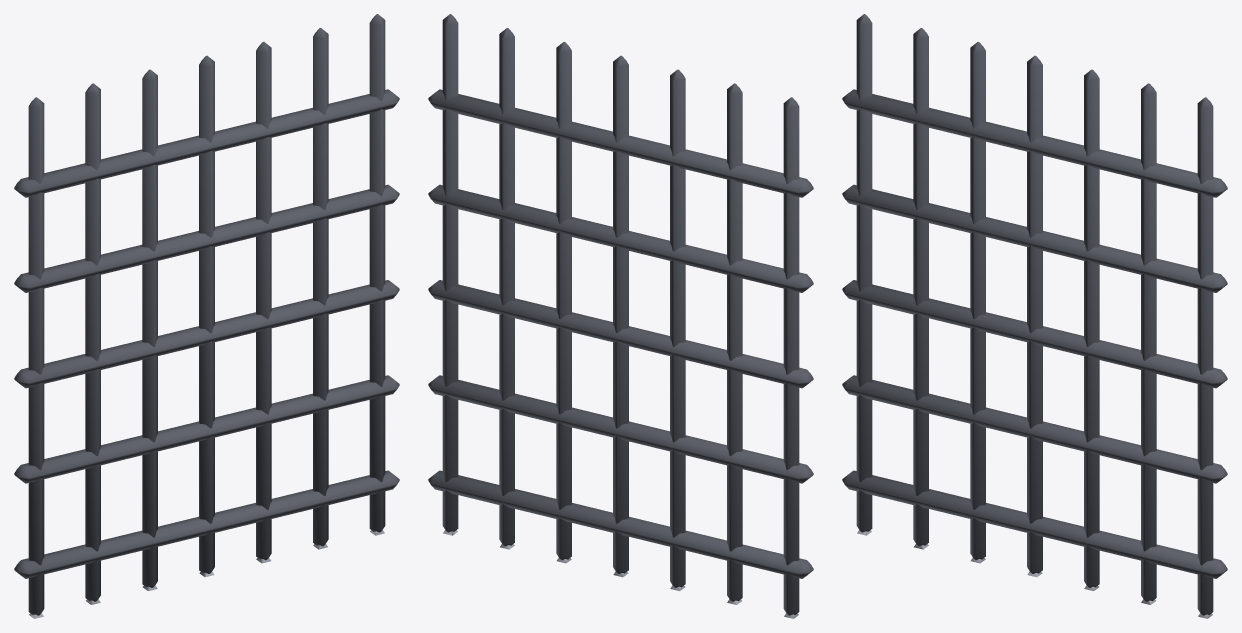
The model's file is X_MedPortcullisGrid.fbx.
3 renders of one model, left to right at view 1: azimuth 30°, elevation 25°; view 2: azimuth 150°, elevation 25°; view 3: azimuth 330°, elevation 25°, orthographic.
Parts seen in each view (by area): view 1: M_PortcullisGrid; view 2: M_PortcullisGrid; view 3: M_PortcullisGrid.
Part boxes in pixels (<box>): M_PortcullisGrid: <box>14,14,399,618</box>; M_PortcullisGrid: <box>428,14,813,618</box>; M_PortcullisGrid: <box>842,14,1227,618</box>.
Bounding box in the file's own units: 2.3 × 3 × 0.13.
1 material, 1 textured.
